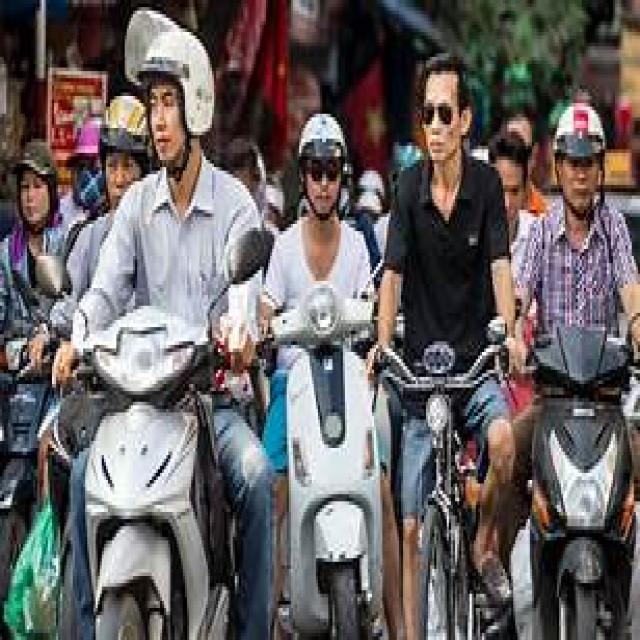Two Wheeler: (40, 306, 229, 637), (271, 284, 380, 637), (534, 327, 631, 637), (225, 229, 270, 290), (37, 259, 66, 296)
